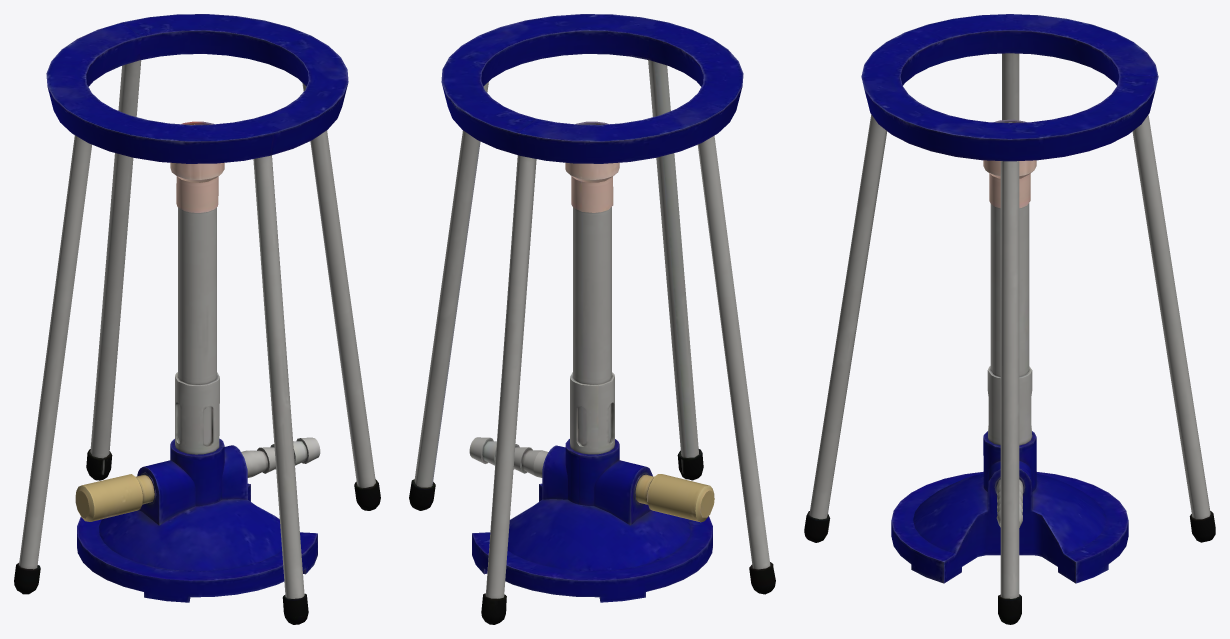
Rendered from bunsen-burner.glb.
The picture shows the model from 3 angles, left to right: view 1: azimuth 30°, elevation 25°; view 2: azimuth 150°, elevation 25°; view 3: azimuth 270°, elevation 25°; orthographic projection.
Parts seen in each view (by area): view 1: burner_stand, bunsen_burner; view 2: burner_stand, bunsen_burner; view 3: burner_stand, bunsen_burner.
Boxes of the visible parts, x1=… form: burner_stand: x1=14, y1=14, x2=380, y2=624; bunsen_burner: x1=75, y1=121, x2=320, y2=602; burner_stand: x1=409, y1=14, x2=775, y2=624; bunsen_burner: x1=469, y1=121, x2=714, y2=602; burner_stand: x1=804, y1=14, x2=1215, y2=624; bunsen_burner: x1=891, y1=119, x2=1128, y2=583.
Size of the model in its own units: 0.1388 by 0.1731 by 0.1388.
1 material, 1 textured.
